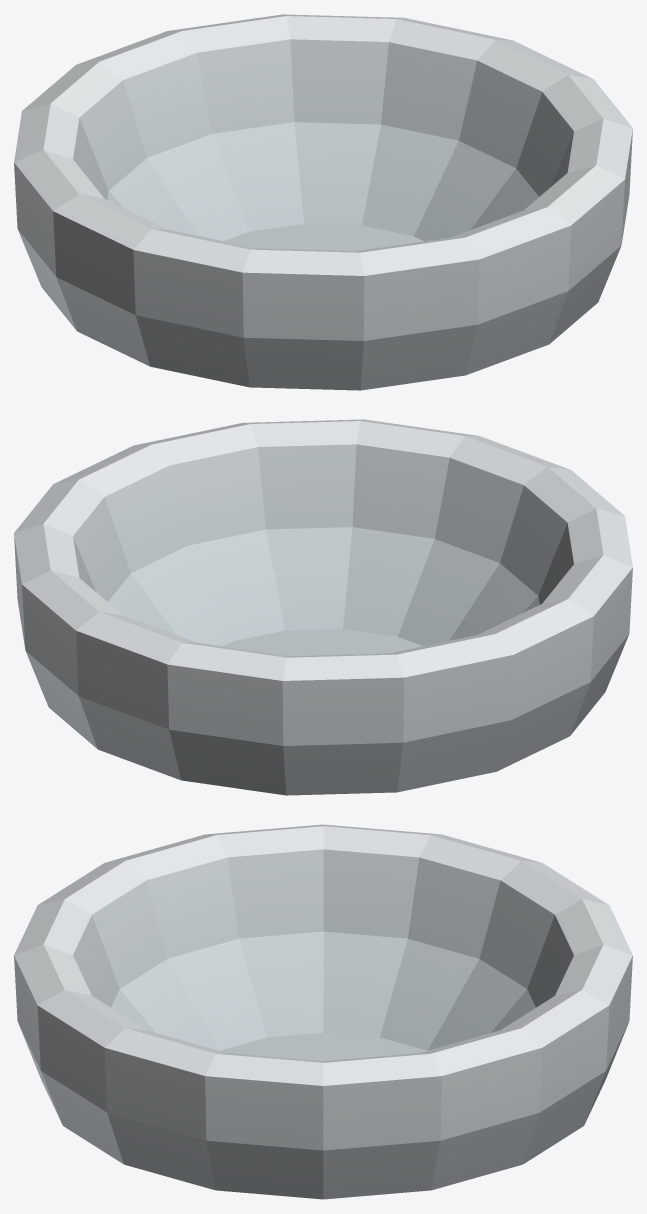
The model's file is Bowl.obj.
3 renders of one model, top to bottom at view 1: azimuth 30°, elevation 25°; view 2: azimuth 150°, elevation 25°; view 3: azimuth 270°, elevation 25°, orthographic.
Visible parts, largest first — view 1: Sphere.095; view 2: Sphere.095; view 3: Sphere.095.
Part boxes in pixels (left/top/right/bottom): Sphere.095: left=14, top=14, right=632, bottom=390; Sphere.095: left=14, top=419, right=632, bottom=795; Sphere.095: left=14, top=824, right=632, bottom=1199.
Bounding box in the file's own units: 0.95 × 0.3 × 0.95.
Materials: 1 (1 with a texture image).
